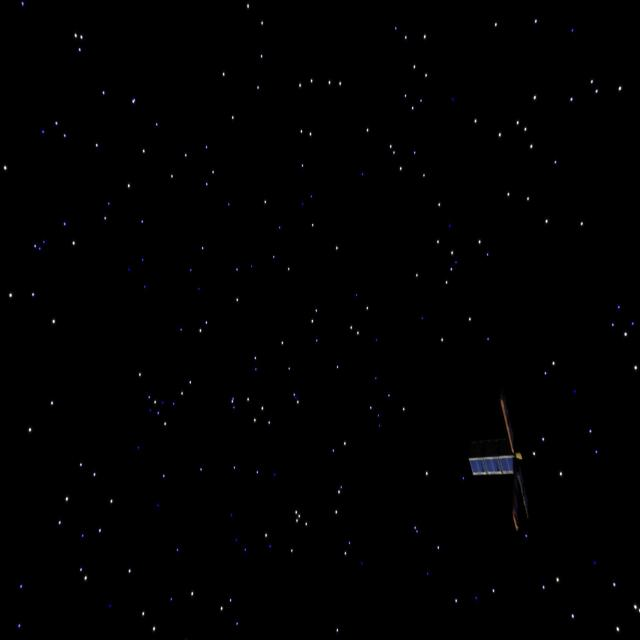satellite: (469, 393, 540, 547)
